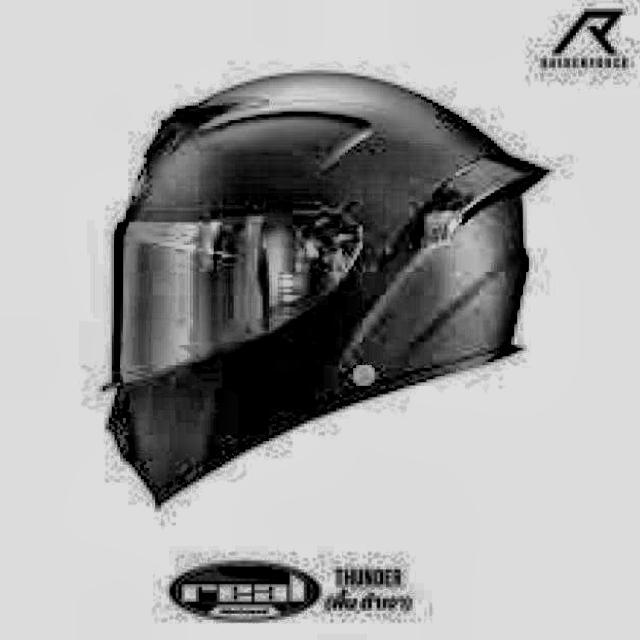Helmet: (90, 75, 542, 498)
